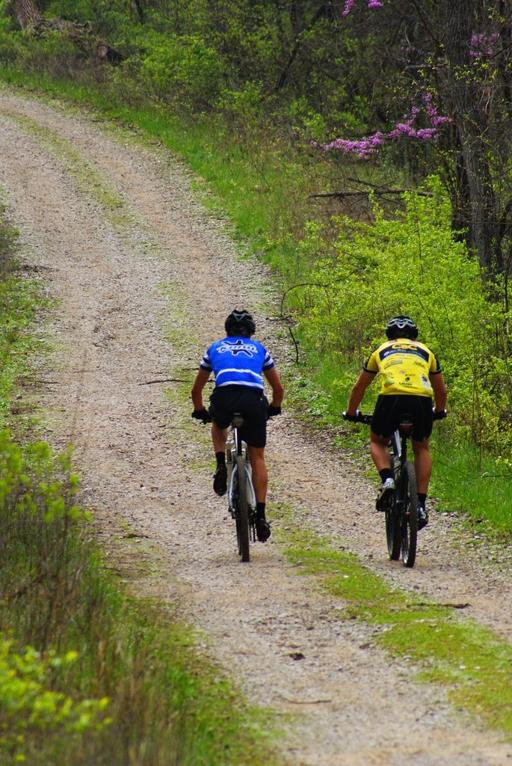non-vehicle: (335, 404, 450, 568), (194, 400, 283, 565)
